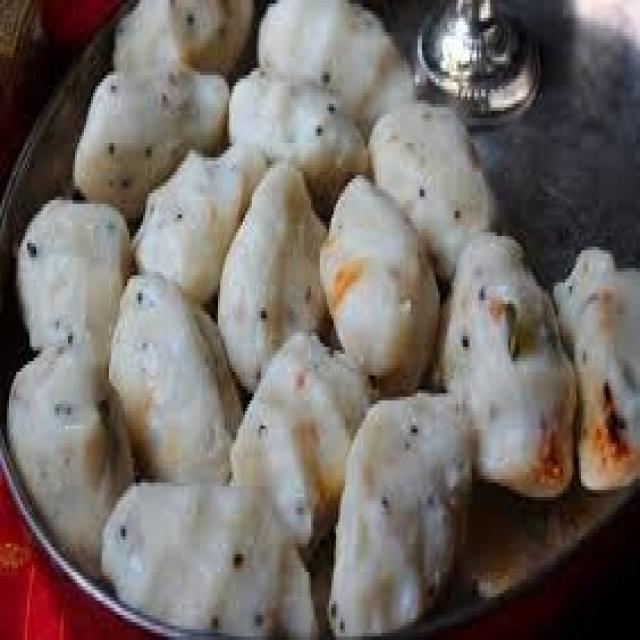pidi kolukattai: (1, 0, 441, 640)
